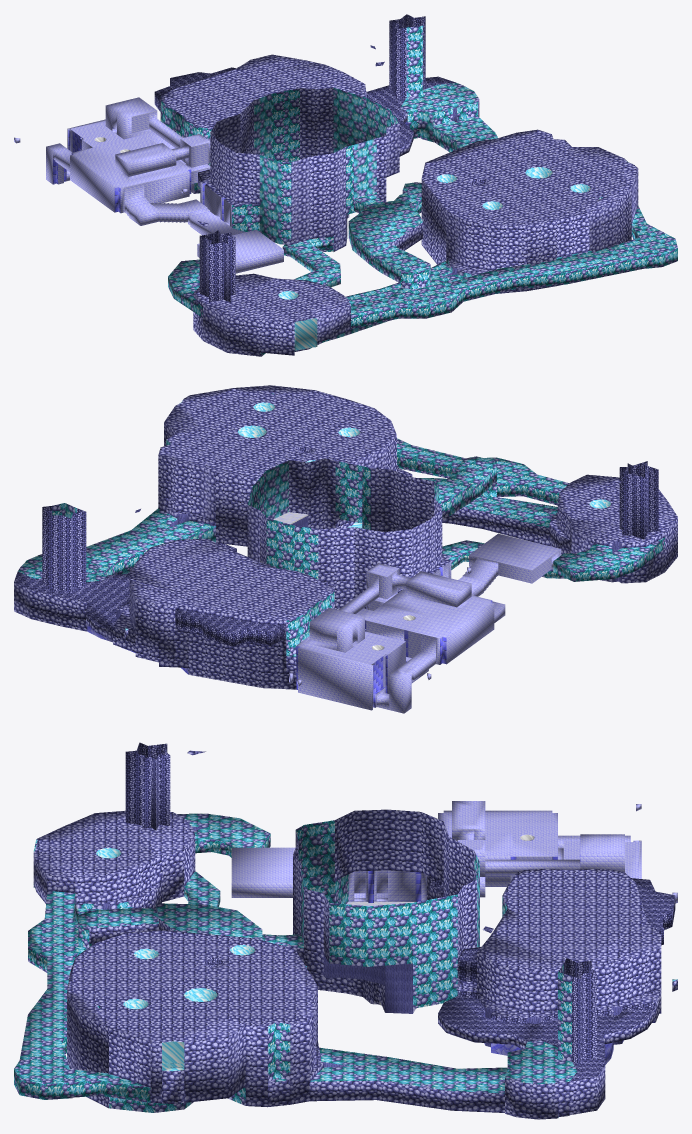
Rendered from M_Errm_TheIceCaveOfFrosty.fbx.
3 views of the same model, one above another, from view 1: azimuth 30°, elevation 25°; view 2: azimuth 150°, elevation 25°; view 3: azimuth 270°, elevation 25° (orthographic). The views are drawn at different scales.
Parts seen in each view (by area): view 1: MAPMA; view 2: MAPMA; view 3: MAPMA.
Part boxes in pixels (x1,y1,x2,y2): MAPMA: [14, 14, 677, 356]; MAPMA: [14, 385, 677, 713]; MAPMA: [14, 742, 677, 1119].
Size of the model in its own units: 11250 by 2400 by 11900.
